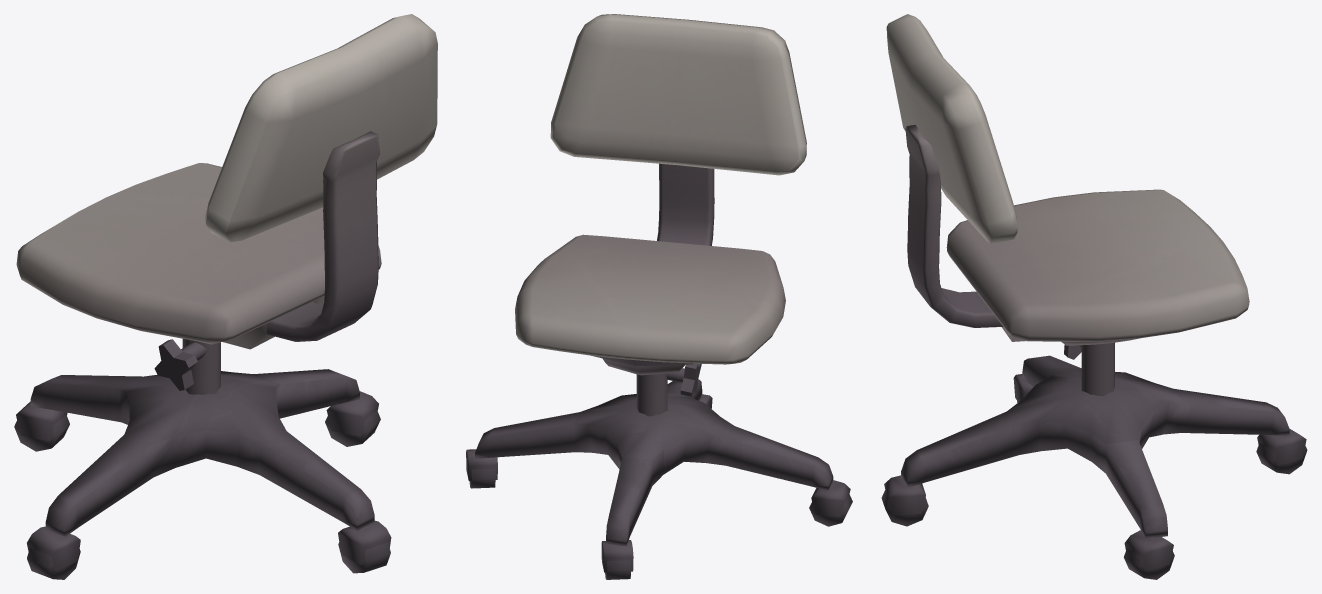
The model's file is SM_Chair.fbx.
3 views of the same model, side by side, from view 1: azimuth 30°, elevation 25°; view 2: azimuth 150°, elevation 25°; view 3: azimuth 270°, elevation 25° (orthographic). The views are drawn at different scales.
Parts seen in each view (by area): view 1: SM_Chair; view 2: SM_Chair; view 3: SM_Chair.
Boxes of the visible parts, left/top/right/bottom form: SM_Chair: left=14, top=14, right=437, bottom=579; SM_Chair: left=466, top=14, right=852, bottom=579; SM_Chair: left=881, top=14, right=1307, bottom=579.
Bounding box in the file's own units: 171 × 206 × 170.
